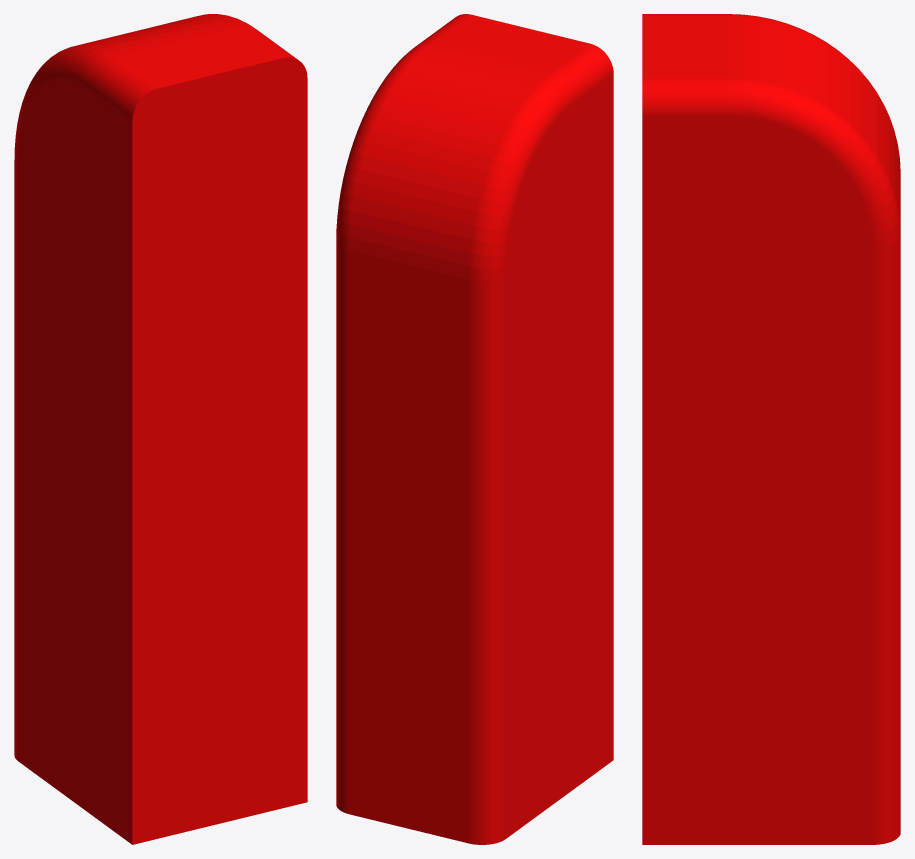
File: torso_1_battery_1.glb
3 views of the same model, side by side, from view 1: azimuth 30°, elevation 25°; view 2: azimuth 150°, elevation 25°; view 3: azimuth 270°, elevation 25° (orthographic). The views are drawn at different scales.
Parts seen in each view (by area): view 1: torso_1_battery_1.obj; view 2: torso_1_battery_1.obj; view 3: torso_1_battery_1.obj.
Boxes of the visible parts, box(x1,y1,x2,y2) form: torso_1_battery_1.obj: box(14, 14, 307, 844); torso_1_battery_1.obj: box(336, 14, 613, 844); torso_1_battery_1.obj: box(642, 14, 900, 844).
Size of the model in its own units: 0.0899 by 0.3683 by 0.1143.
